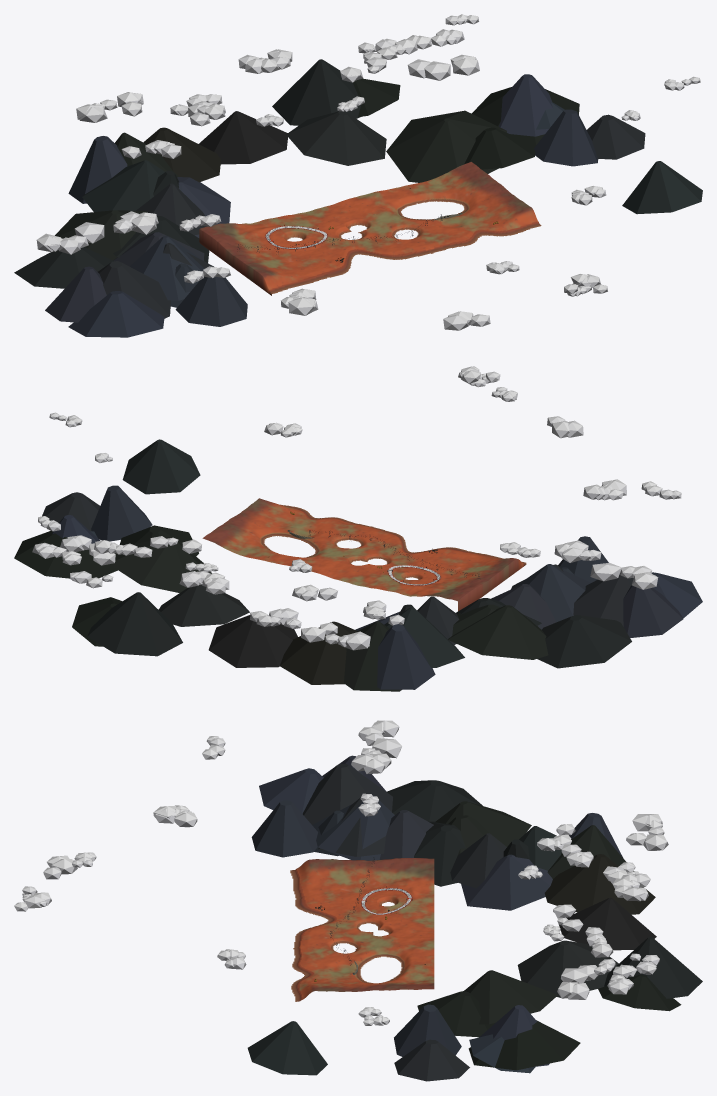
The model's file is level.glb.
3 renders of one model, top to bottom at view 1: azimuth 30°, elevation 25°; view 2: azimuth 150°, elevation 25°; view 3: azimuth 270°, elevation 25°, orthographic. The views are drawn at different scales.
Parts seen in each view (by area): view 1: backdrop, clouds, terrain_0_3, terrain_3_3, terrain_0_2, terrain_3_2, terrain_2_3, terrain_1_3, terrain_1_2, terrain_2_2, terrain_0_1, terrain_3_1 (+2 smaller); view 2: backdrop, clouds, terrain_3_2, terrain_0_2, terrain_0_3, terrain_3_3, terrain_1_3, terrain_2_2, terrain_1_2, terrain_2_3, terrain_2_1, terrain_0_1; view 3: backdrop, clouds, terrain_0_2, terrain_0_3, terrain_1_3, terrain_2_2, terrain_1_2, terrain_2_3, terrain_3_2, terrain_3_3, terrain_0_1, terrain_2_1 (+1 smaller).
Boxes of the visible parts, <box> form: backdrop: <box>14,59,702,337</box>; clouds: <box>36,14,700,330</box>; terrain_0_3: <box>199,219,295,263</box>; terrain_3_3: <box>404,162,499,204</box>; terrain_0_2: <box>228,242,324,284</box>; terrain_3_2: <box>443,184,528,230</box>; terrain_2_3: <box>336,186,419,227</box>; terrain_1_3: <box>268,203,358,241</box>; terrain_1_2: <box>296,229,392,264</box>; terrain_2_2: <box>366,217,460,247</box>; terrain_0_1: <box>257,264,337,295</box>; terrain_3_1: <box>462,206,541,242</box>; backdrop: <box>14,439,702,691</box>; clouds: <box>32,366,681,650</box>; terrain_3_2: <box>229,500,320,539</box>; terrain_0_2: <box>422,555,512,594</box>; terrain_0_3: <box>394,574,485,611</box>; terrain_3_3: <box>202,519,277,560</box>; terrain_1_3: <box>330,563,420,591</box>; terrain_2_2: <box>301,524,384,561</box>; terrain_1_2: <box>359,539,447,573</box>; terrain_2_3: <box>266,550,354,577</box>; terrain_2_1: <box>321,517,395,538</box>; terrain_0_1: <box>449,549,526,574</box>; backdrop: <box>247,755,702,1081</box>; clouds: <box>14,720,668,1025</box>; terrain_0_2: <box>319,859,376,900</box>; terrain_0_3: <box>377,858,434,903</box>; terrain_1_3: <box>377,897,434,934</box>; terrain_2_2: <box>319,933,376,968</box>; terrain_1_2: <box>319,900,376,934</box>; terrain_2_3: <box>377,932,434,968</box>; terrain_3_2: <box>319,966,376,991</box>; terrain_3_3: <box>377,964,434,990</box>; terrain_0_1: <box>290,859,319,903</box>; terrain_2_1: <box>292,933,319,968</box>.
Size of the model in its own units: 3088 by 414 by 2834.
